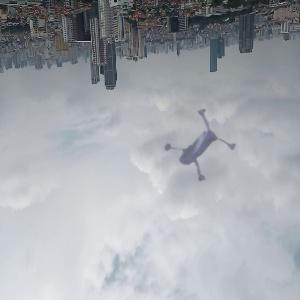drone: (143, 92, 251, 200)
